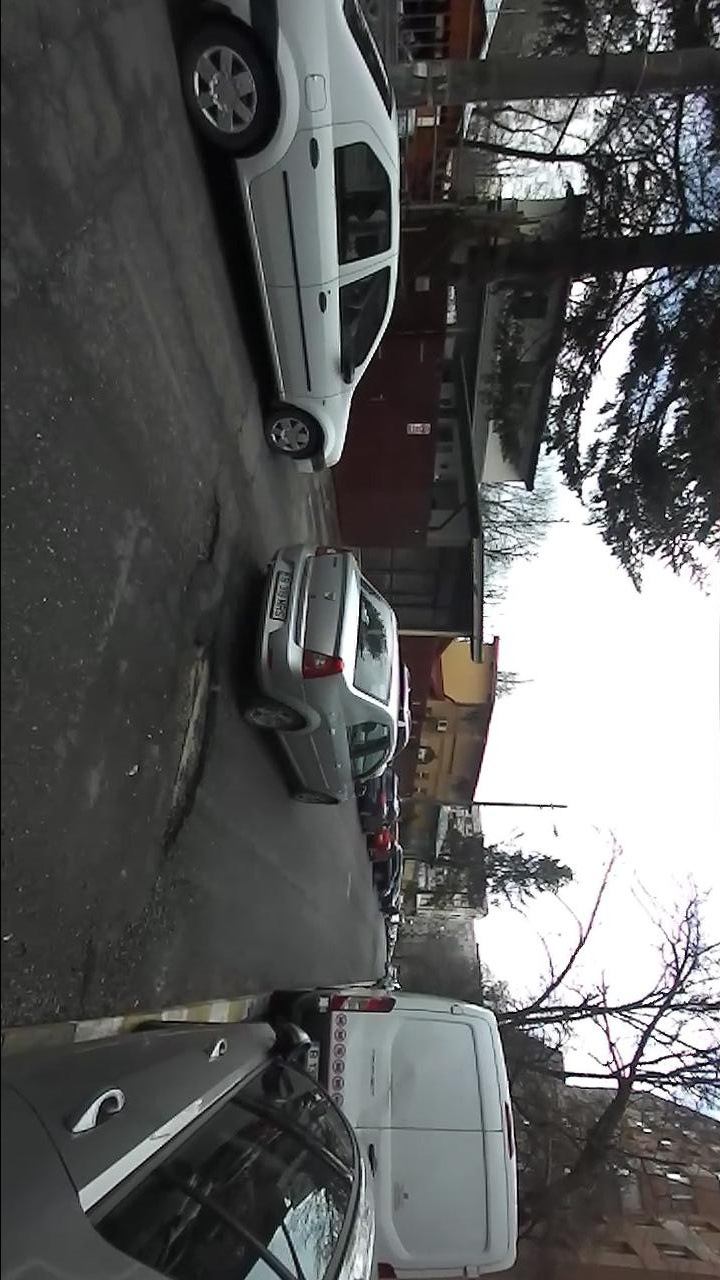pothole: (155, 638, 225, 872), (185, 491, 226, 573)
